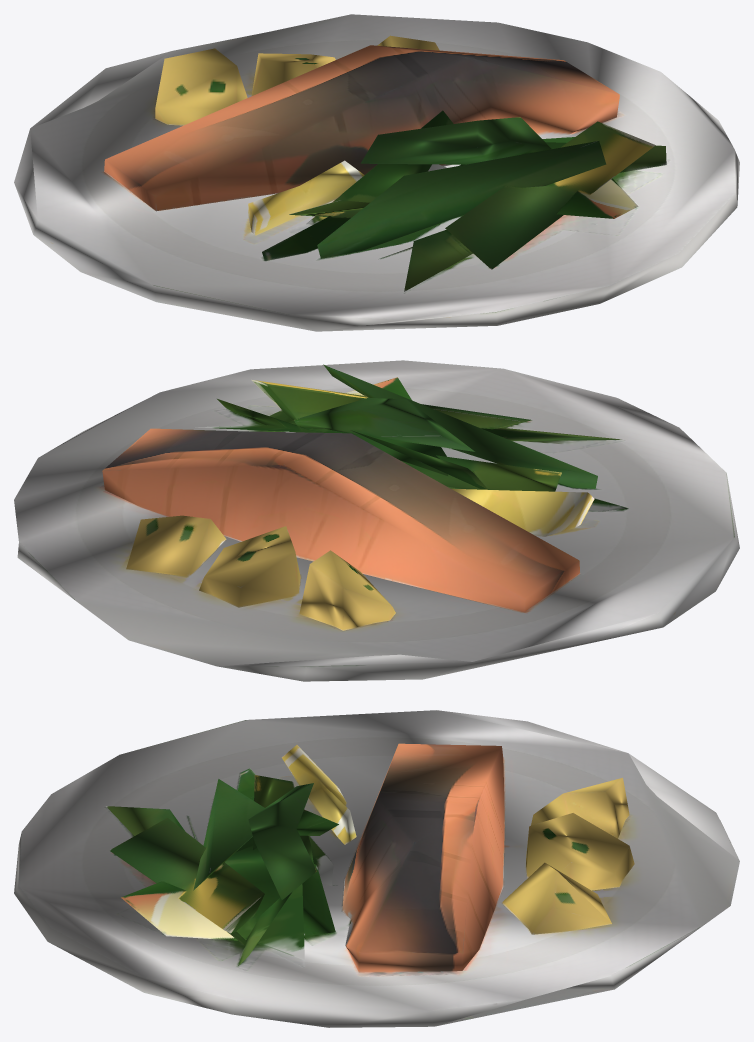
The model's file is dinner_plate.fbx.
3 renders of one model, top to bottom at view 1: azimuth 30°, elevation 25°; view 2: azimuth 150°, elevation 25°; view 3: azimuth 270°, elevation 25°, orthographic.
Visible parts, largest first — view 1: Mesh_0; view 2: Mesh_0; view 3: Mesh_0.
Part boxes in pixels (x1=…): Mesh_0: x1=14, y1=14, x2=739, y2=331; Mesh_0: x1=14, y1=360, x2=739, y2=681; Mesh_0: x1=14, y1=710, x2=739, y2=1027.
Bounding box in the file's own units: 96.44 × 16.41 × 96.04.
Materials: 1 (1 with a texture image).
